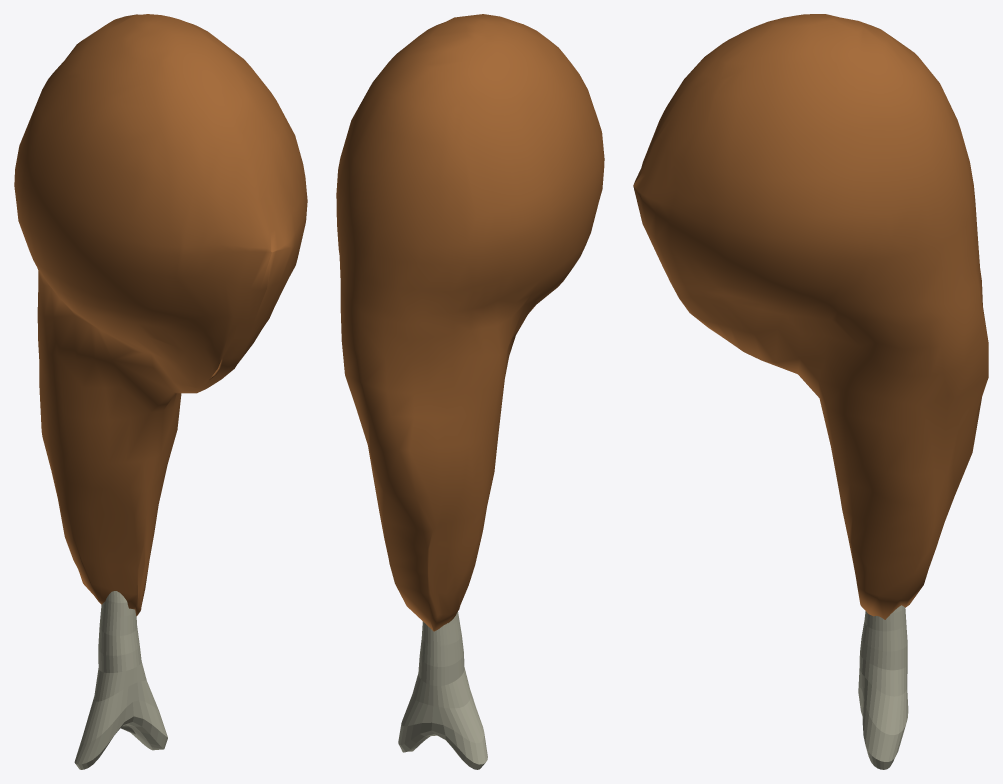
The model's file is Kippie-Throw.fbx.
3 renders of one model, left to right at view 1: azimuth 30°, elevation 25°; view 2: azimuth 150°, elevation 25°; view 3: azimuth 270°, elevation 25°, orthographic. The views are drawn at different scales.
Visible parts, largest first — view 1: Sphere.002; view 2: Sphere.002; view 3: Sphere.002.
Part boxes in pixels (box(x1,y1,x2,y2)): Sphere.002: box(14, 14, 307, 769); Sphere.002: box(336, 14, 604, 769); Sphere.002: box(633, 14, 988, 769).
Size of the model in its own units: 186 by 568 by 250.
